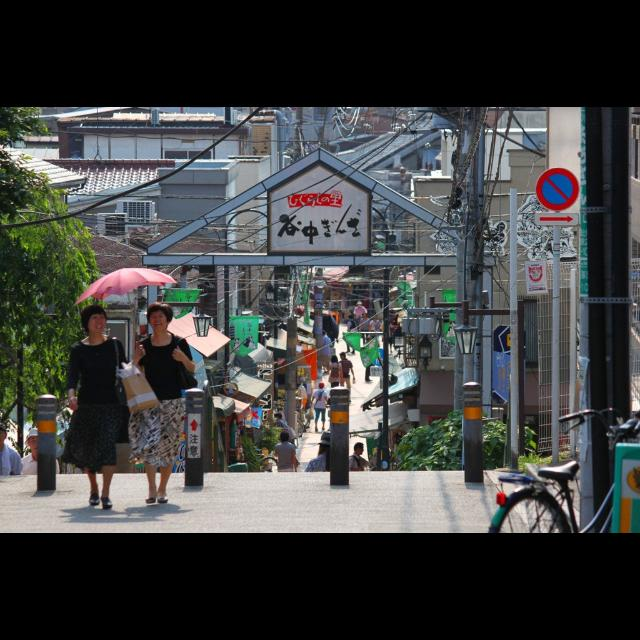head: (147, 302, 171, 331), (84, 306, 108, 334), (27, 430, 47, 456), (320, 434, 338, 454), (0, 425, 8, 446), (354, 443, 364, 457), (280, 432, 290, 443), (330, 356, 340, 366), (275, 414, 283, 422), (340, 354, 346, 361), (319, 383, 325, 389), (321, 331, 327, 337), (368, 336, 374, 342), (348, 316, 354, 322), (357, 302, 363, 308), (364, 314, 368, 320), (373, 316, 377, 322), (335, 302, 339, 306)
person: (59, 303, 162, 512), (126, 301, 200, 505), (347, 443, 377, 513), (273, 430, 299, 496), (274, 413, 302, 469), (304, 382, 330, 434), (338, 352, 356, 404), (326, 356, 344, 404), (328, 301, 344, 345), (320, 330, 334, 376), (345, 314, 359, 356), (352, 300, 368, 334), (364, 335, 374, 383), (359, 313, 371, 352), (370, 315, 382, 353)
